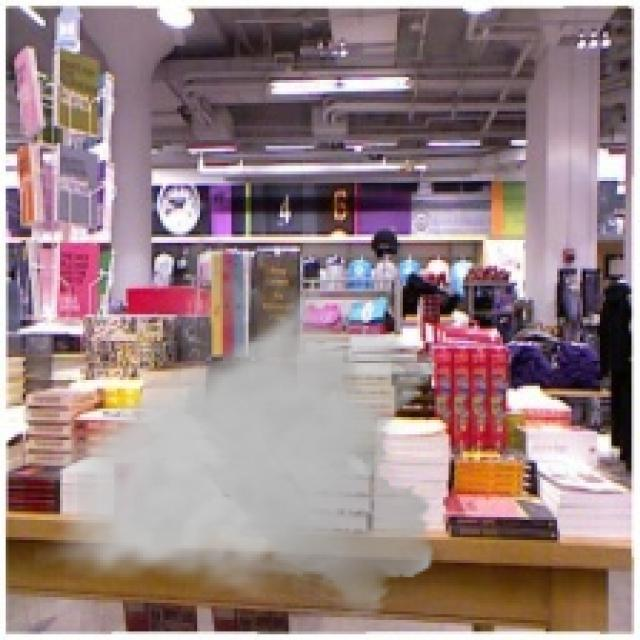Smoke: (34, 228, 446, 628)
